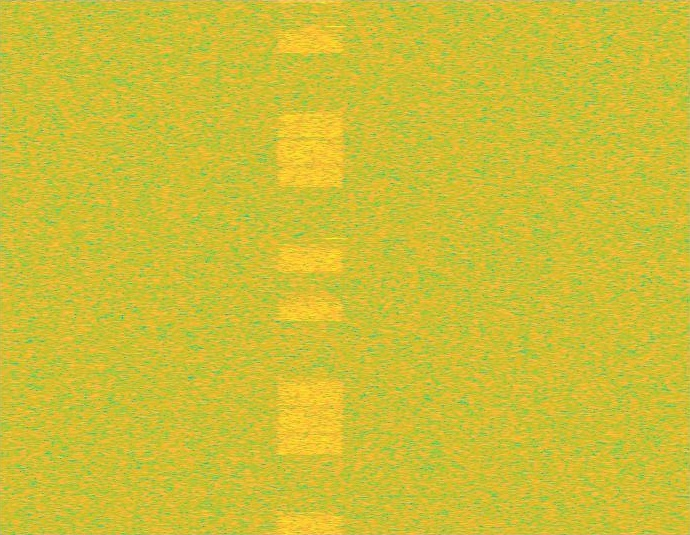LTE: (276, 0, 345, 534)
Radar: (329, 0, 343, 534)
